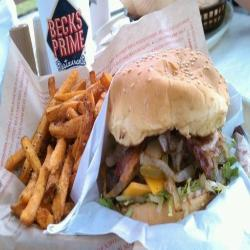burger: (99, 51, 237, 234)
fries: (12, 64, 108, 224)
